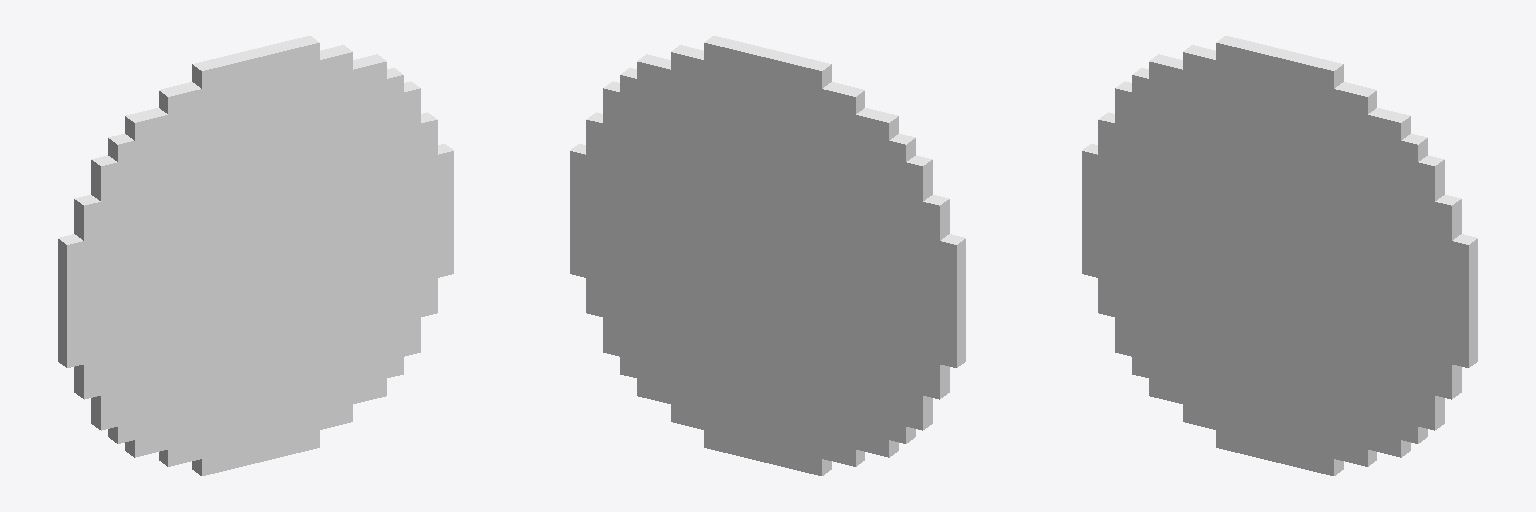
File: ship_placeholder.obj
3 renders of one model, left to right at view 1: azimuth 30°, elevation 25°; view 2: azimuth 150°, elevation 25°; view 3: azimuth 330°, elevation 25°, orthographic.
Parts seen in each view (by area): view 1: ship_placeholder; view 2: ship_placeholder; view 3: ship_placeholder.
Boxes of the visible parts, x1=… form: ship_placeholder: x1=58, y1=36, x2=453, y2=475; ship_placeholder: x1=570, y1=36, x2=965, y2=475; ship_placeholder: x1=1082, y1=36, x2=1477, y2=475.
Size of the model in its own units: 23 by 23 by 1.